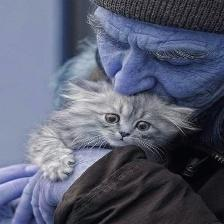kedo: (30, 79, 191, 181)
